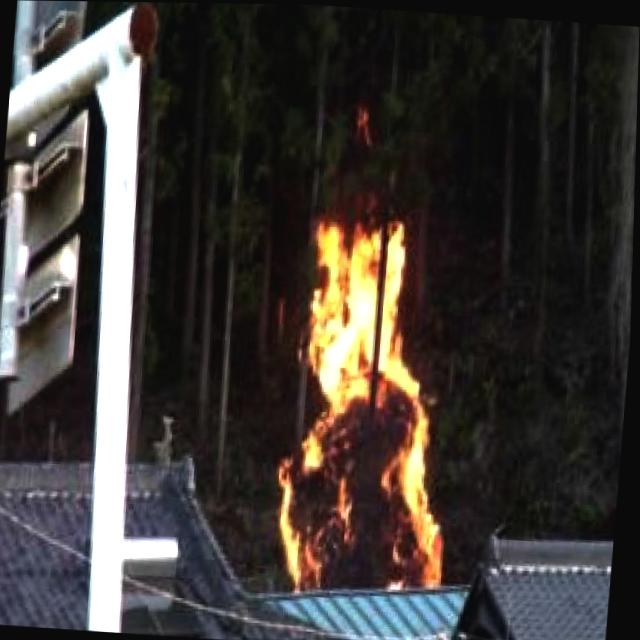Fire: (257, 204, 472, 601)
